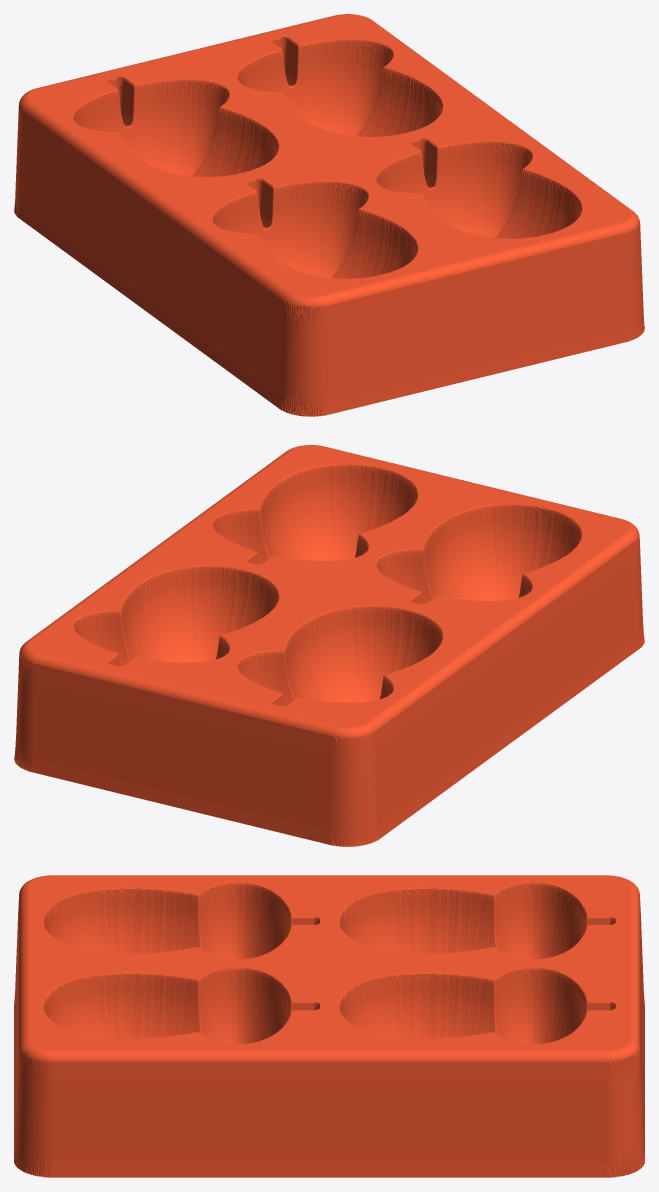
The model's file is mold.glb.
3 views of the same model, one above another, from view 1: azimuth 30°, elevation 25°; view 2: azimuth 150°, elevation 25°; view 3: azimuth 270°, elevation 25° (orthographic). The views are drawn at different scales.
Parts seen in each view (by area): view 1: geometry_0; view 2: geometry_0; view 3: geometry_0.
Boxes of the visible parts, box(x1,y1,x2,y2) form: geometry_0: box(14, 14, 644, 416); geometry_0: box(14, 445, 644, 846); geometry_0: box(14, 875, 644, 1177).
Bounding box in the file's own units: 0.1028 × 0.031 × 0.1466.
